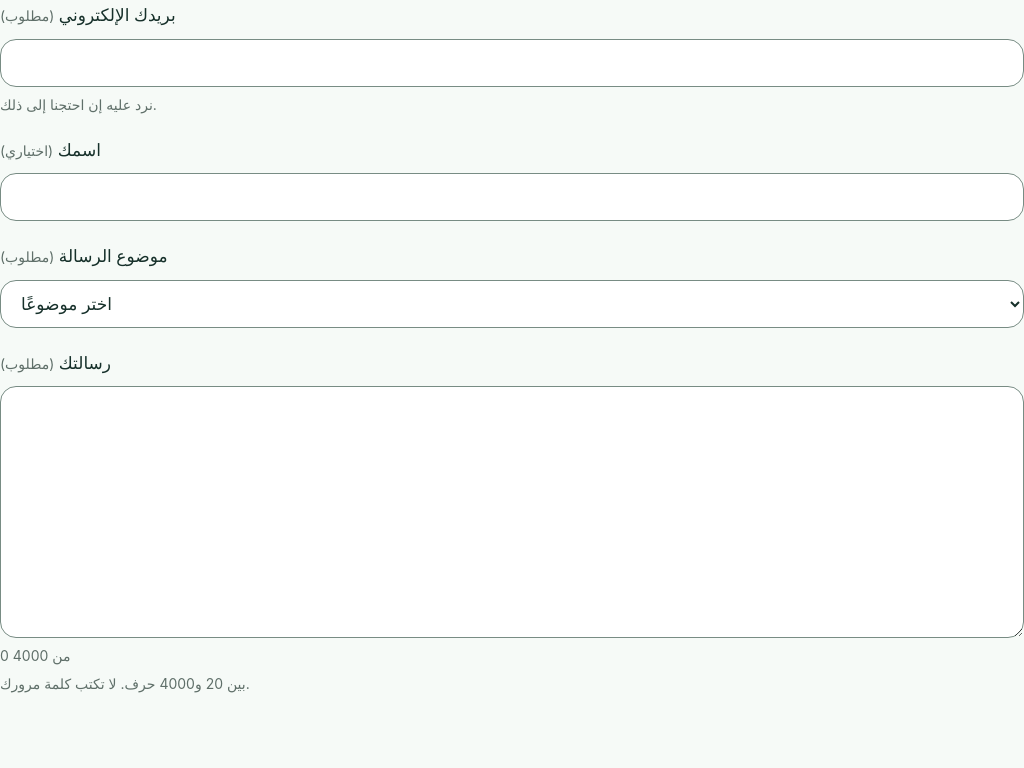
support form › says the check failed on a 403 turnstile_failed, and that nothing was sent
The image size is (1024, 768).
Type "ahmad@example.com" into the field labelled "بريدك الإلكتروني (مطلوب)" at (512, 63), box [0,39,1023,87]
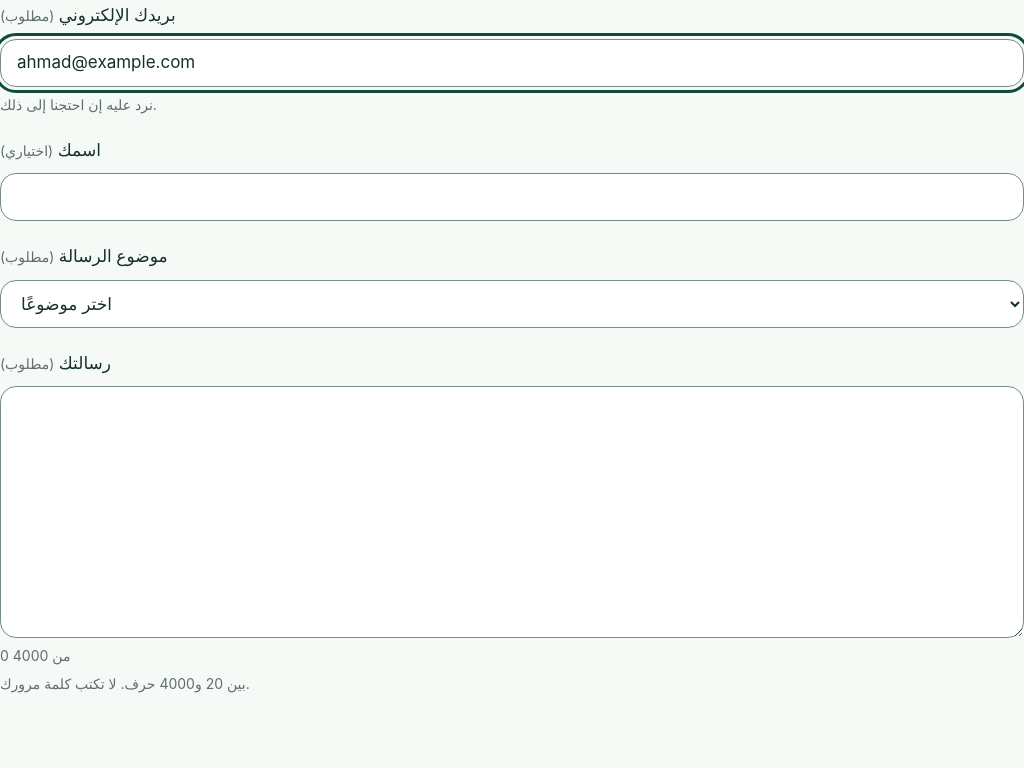
Select "خطأ في التطبيق" in the dropdown labelled "موضوع الرسالة (مطلوب)" at (512, 304), box [0,280,1023,328]
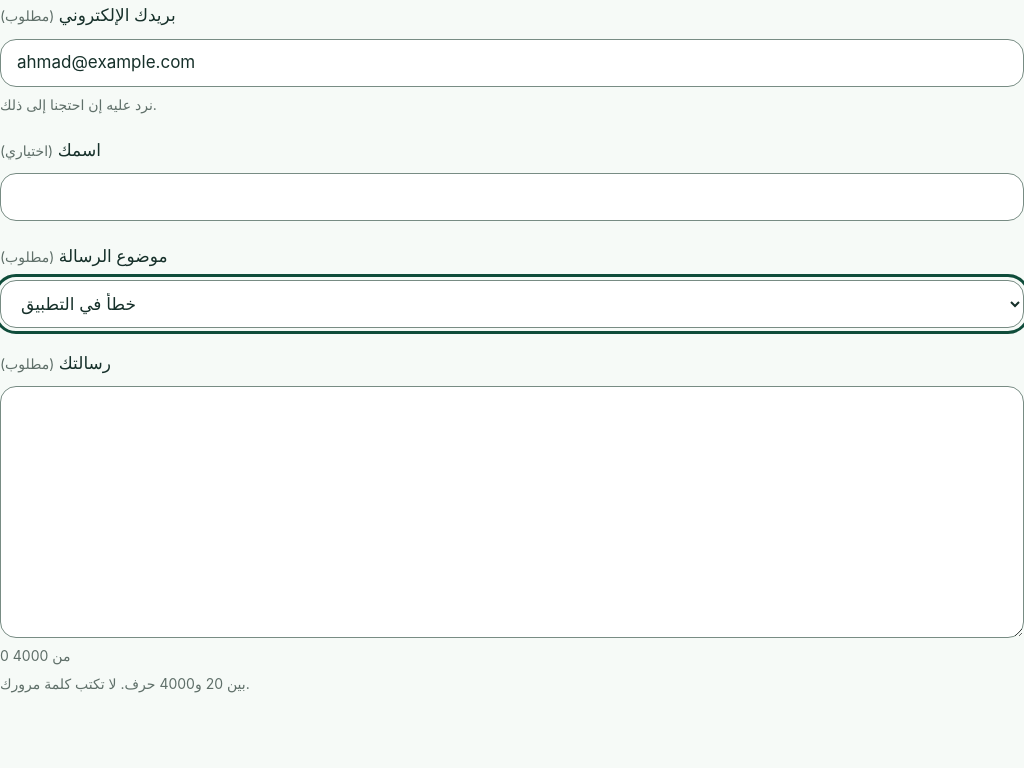
Type "مرحبًا، أحتاج مساعدة في حسابي من فضلكم." into the text box labelled "رسالتك (مطلوب)" at (512, 512), box [0,386,1023,638]
(page scrolled)
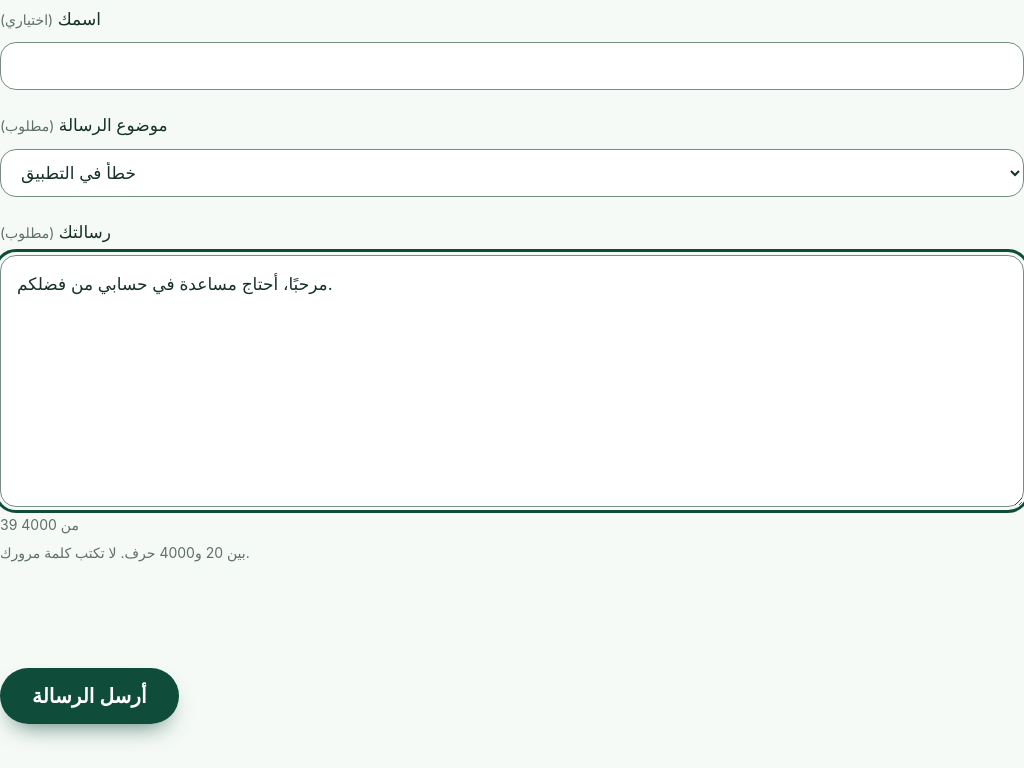
Click the button "أرسل الرسالة" at (89, 696), box [0,668,178,724]
(page scrolled)
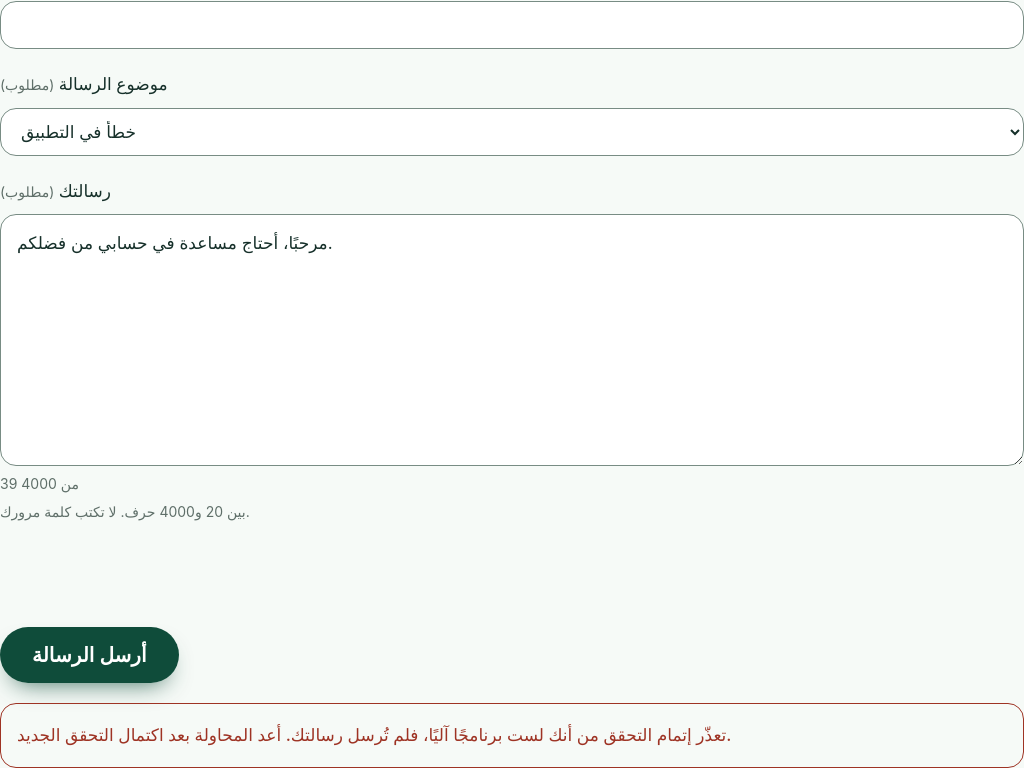
Check: the text "تعذّر إتمام التحقق من أنك لست برنامجًا آليًا، فلم تُرسل رسالتك. أعد المحاولة بعد اكتمال التحقق الجديد." is shown, box [17,726,732,746]
